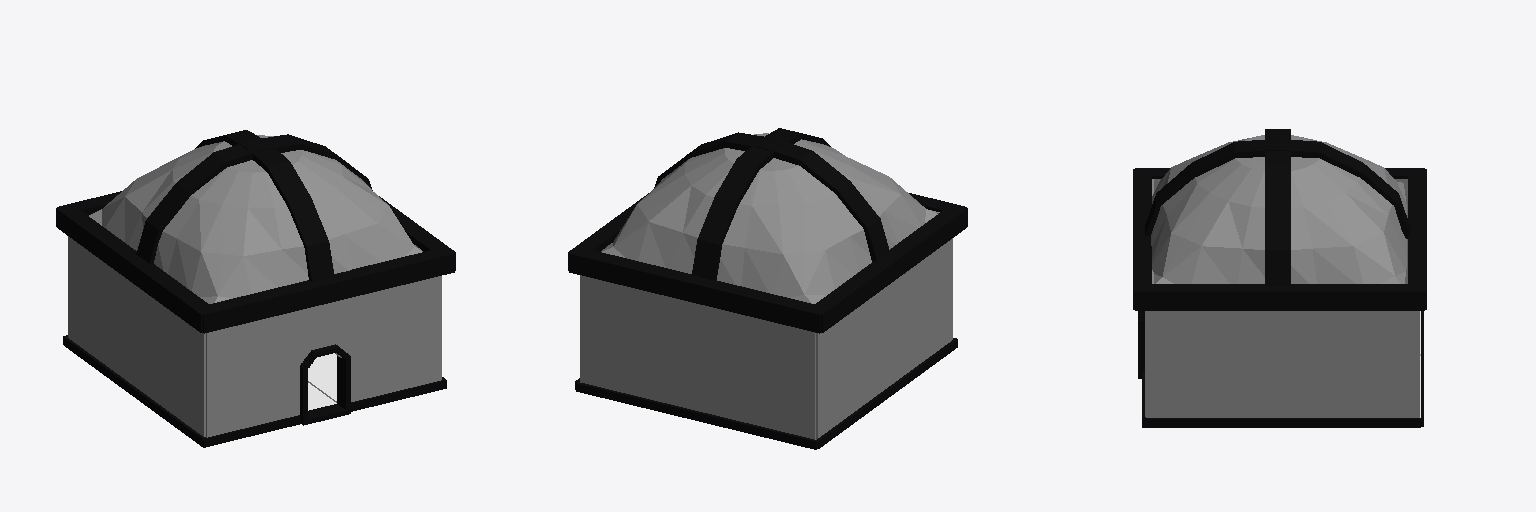
3 renders of one model, left to right at view 1: azimuth 30°, elevation 25°; view 2: azimuth 150°, elevation 25°; view 3: azimuth 270°, elevation 25°, orthographic.
Parts seen in each view (by area): view 1: base_line128, Sphere001, Box001, base_line129, base_floor001; view 2: base_line128, Sphere001, Box001, base_line129; view 3: base_line128, Sphere001, Box001, base_line129.
Part boxes in pixels (left/top/right/bottom): base_line128: left=68, top=236, right=441, bottom=437; Sphere001: left=89, top=135, right=422, bottom=303; Box001: left=56, top=130, right=455, bottom=333; base_line129: left=63, top=335, right=446, bottom=447; base_floor001: left=308, top=353, right=336, bottom=410; base_line128: left=580, top=210, right=952, bottom=439; Sphere001: left=601, top=133, right=937, bottom=303; Box001: left=568, top=128, right=967, bottom=333; base_line129: left=575, top=338, right=957, bottom=449; base_line128: left=1145, top=179, right=1419, bottom=417; Sphere001: left=1151, top=135, right=1406, bottom=283; Box001: left=1133, top=129, right=1426, bottom=310; base_line129: left=1138, top=311, right=1423, bottom=427.
Size of the model in its own units: 0.8015 by 0.6727 by 0.8024.